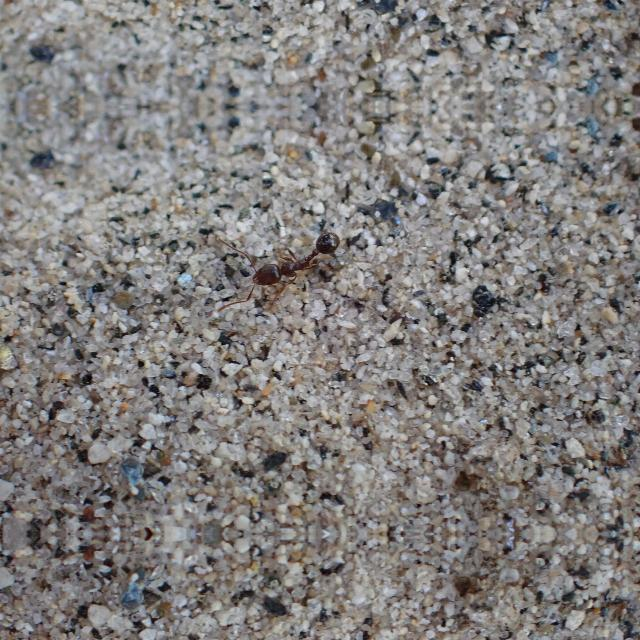Apheanogaster: (219, 218, 363, 306)
